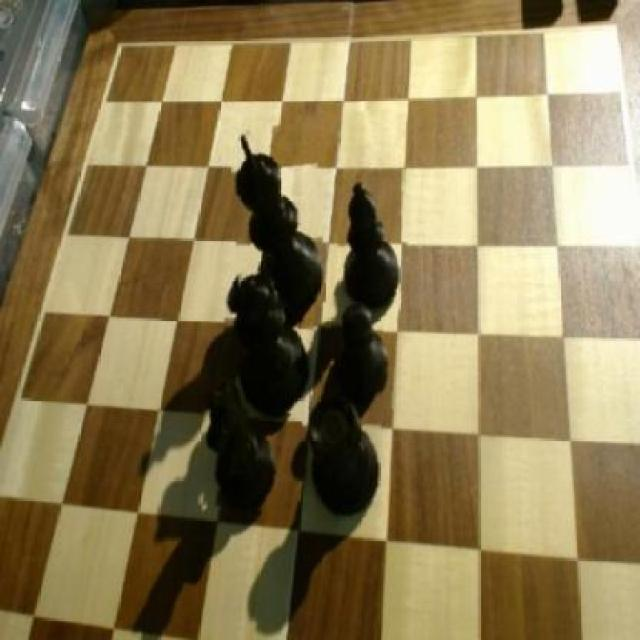bishop: (337, 171, 409, 313)
black-bishop: (231, 123, 324, 310)
black-king: (202, 375, 286, 510)
black-knight: (329, 298, 398, 410)
black-pawn: (223, 268, 317, 414)
black-queen: (303, 391, 384, 520)
